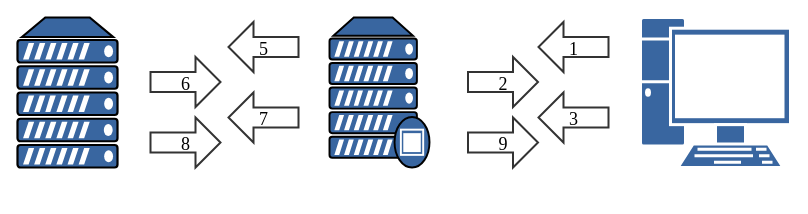
Some shapes in this 808 by 214 pixel diagram are drawn without their labels. Each missing label, with the centre of its shape:
User: (715,92)
Web filter: (379,92)
Web server: (67,92)
